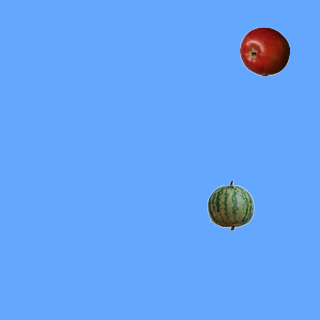Apple Braeburn: (239, 26, 289, 76)
Watermelon: (205, 180, 255, 230)
